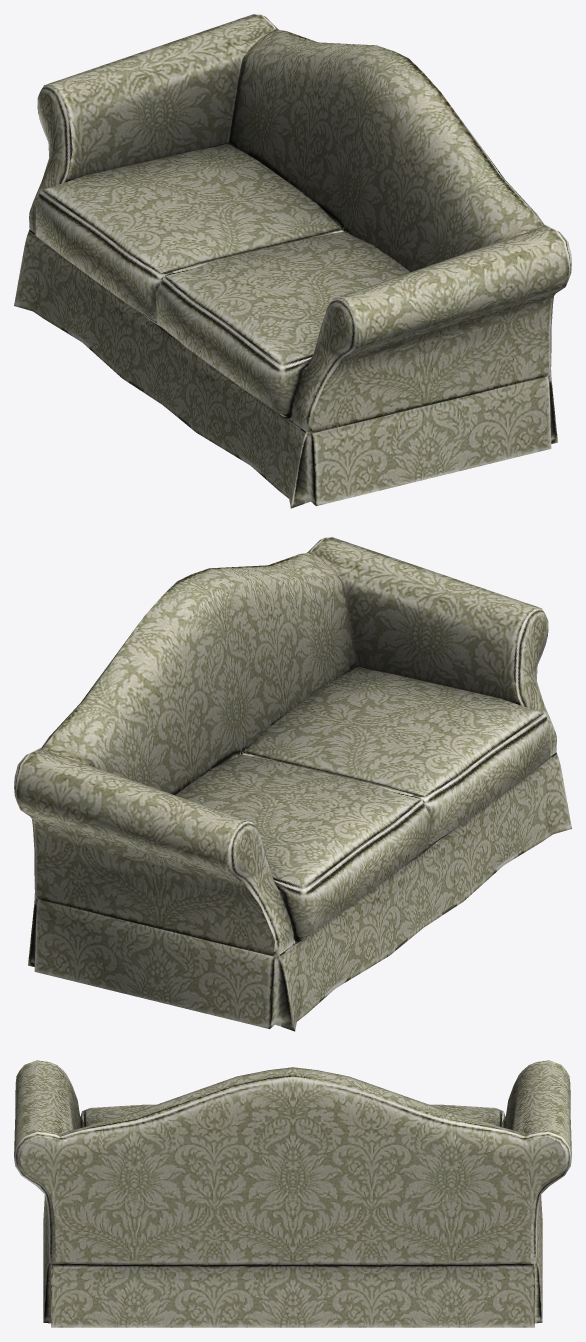
File: Sofa06.FBX
3 renders of one model, top to bottom at view 1: azimuth 30°, elevation 25°; view 2: azimuth 150°, elevation 25°; view 3: azimuth 270°, elevation 25°, orthographic. The views are drawn at different scales.
Visible parts, largest first — view 1: Sofa06; view 2: Sofa06; view 3: Sofa06.
Part boxes in pixels (left/top/right/bottom): Sofa06: left=14, top=14, right=571, bottom=508; Sofa06: left=14, top=537, right=571, bottom=1031; Sofa06: left=14, top=1060, right=571, bottom=1327.
Bounding box in the file's own units: 134 × 137 × 278.
